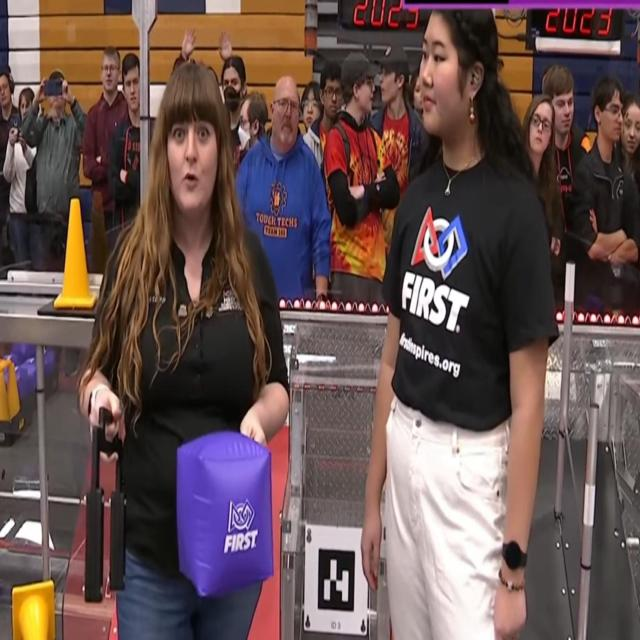frc_cone: (54, 197, 95, 309), (11, 576, 56, 640), (4, 364, 25, 427), (0, 370, 11, 440)
frc_cube: (177, 430, 275, 598), (26, 356, 44, 382), (14, 366, 27, 400), (43, 353, 59, 374), (20, 341, 33, 359)
